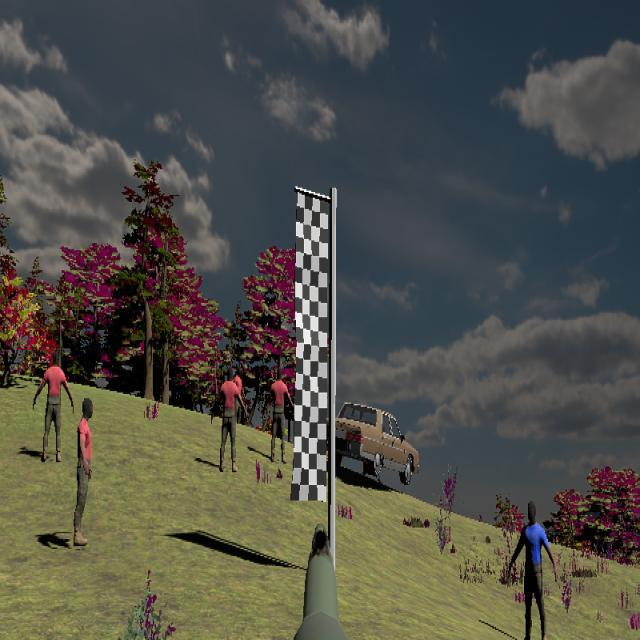Human: (510, 499, 557, 640), (32, 350, 74, 463), (211, 366, 246, 472), (73, 398, 94, 547), (263, 368, 294, 461)
car: (321, 402, 420, 486)
